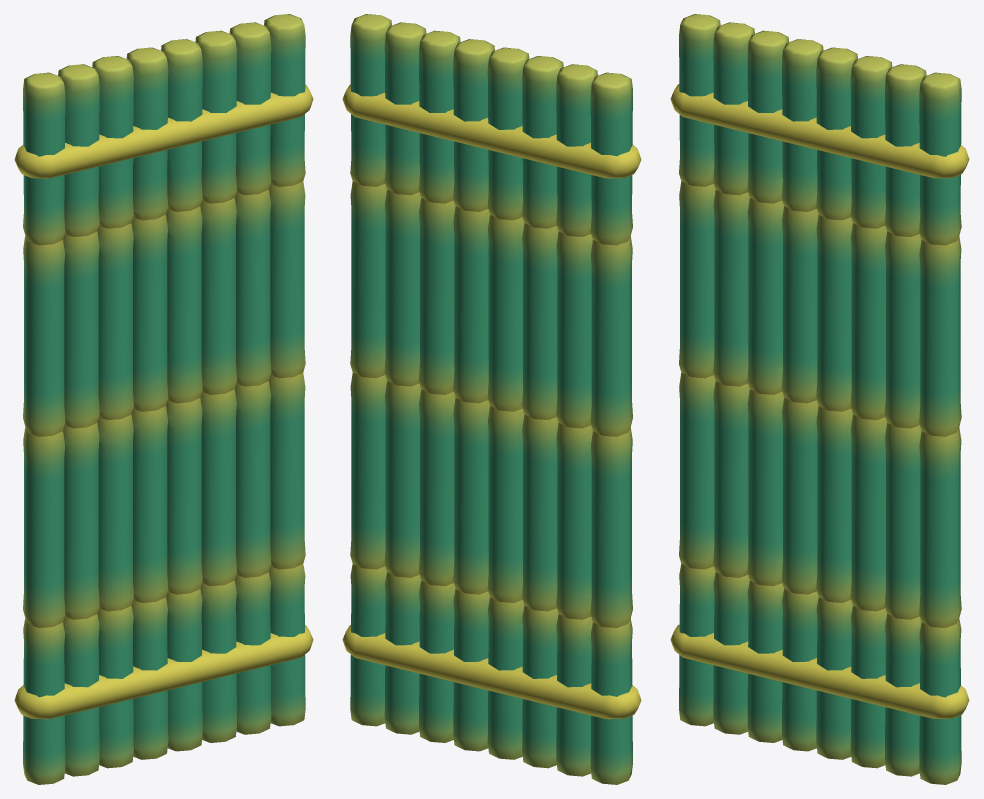
The model's file is BambooWall.fbx.
3 renders of one model, left to right at view 1: azimuth 30°, elevation 25°; view 2: azimuth 150°, elevation 25°; view 3: azimuth 330°, elevation 25°, orthographic.
Parts seen in each view (by area): view 1: pCube5; view 2: pCube5; view 3: pCube5.
Part boxes in pixels (<box>): pCube5: <box>14,14,313,784</box>; pCube5: <box>342,14,641,784</box>; pCube5: <box>670,14,969,784</box>.
Bounding box in the file's own units: 8.7 × 19.88 × 1.36.
1 material, 1 textured.
